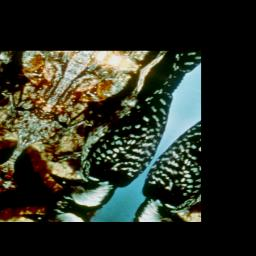Woodpecker: (5, 53, 200, 221)
